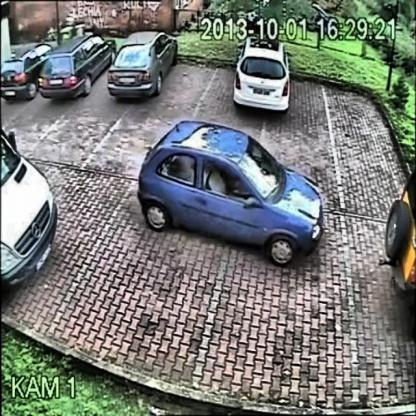free: (255, 253, 346, 408), (328, 76, 385, 148)
occupied: (0, 129, 60, 295), (235, 30, 299, 116), (110, 32, 168, 100), (43, 33, 102, 99), (0, 34, 42, 107)
